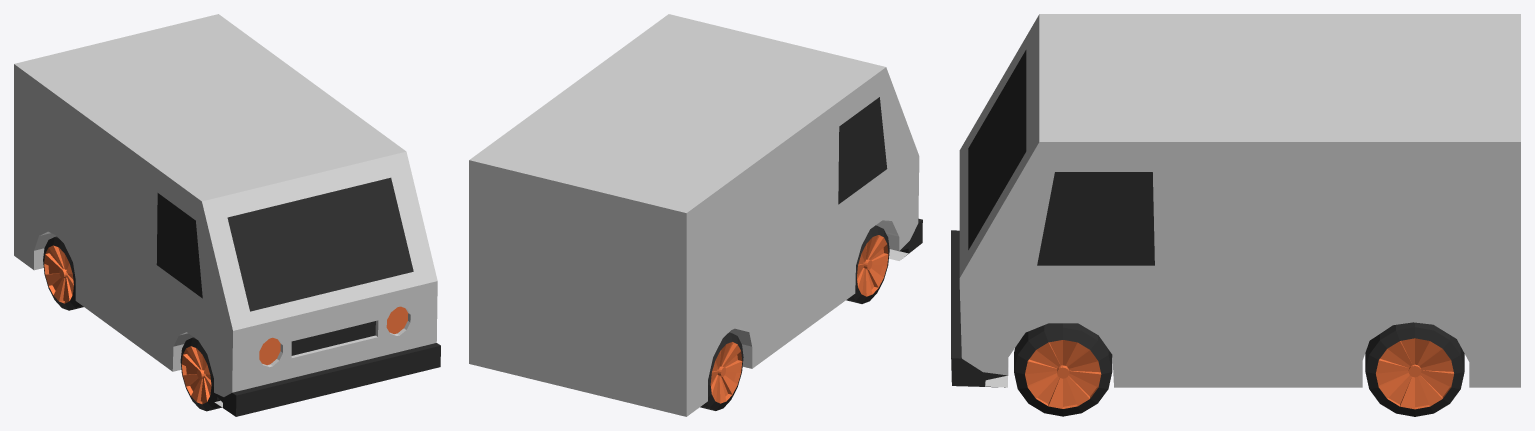
The model's file is car2.glb.
The picture shows the model from 3 angles, left to right: view 1: azimuth 30°, elevation 25°; view 2: azimuth 150°, elevation 25°; view 3: azimuth 270°, elevation 25°; orthographic projection. The views are drawn at different scales.
Parts seen in each view (by area): view 1: Plane, Low Poly Sports Car.004, Low Poly Sports Car.002; view 2: Plane, Low Poly Sports Car.002, Low Poly Sports Car.004; view 3: Plane, Low Poly Sports Car.001, Low Poly Sports Car.003.
Boxes of the visible parts, left/top/right/bottom form: Plane: left=14, top=14, right=440, bottom=416; Low Poly Sports Car.004: left=180, top=337, right=221, bottom=411; Low Poly Sports Car.002: left=43, top=236, right=83, bottom=310; Plane: left=469, top=14, right=922, bottom=416; Low Poly Sports Car.002: left=700, top=332, right=743, bottom=410; Low Poly Sports Car.004: left=846, top=225, right=889, bottom=303; Plane: left=951, top=14, right=1520, bottom=387; Low Poly Sports Car.001: left=1365, top=322, right=1464, bottom=416; Low Poly Sports Car.003: left=1014, top=323, right=1112, bottom=416.
Size of the model in its own units: 2.27 by 2.29 by 4.26.
